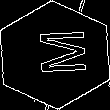M_W: (25, 30, 85, 80)
